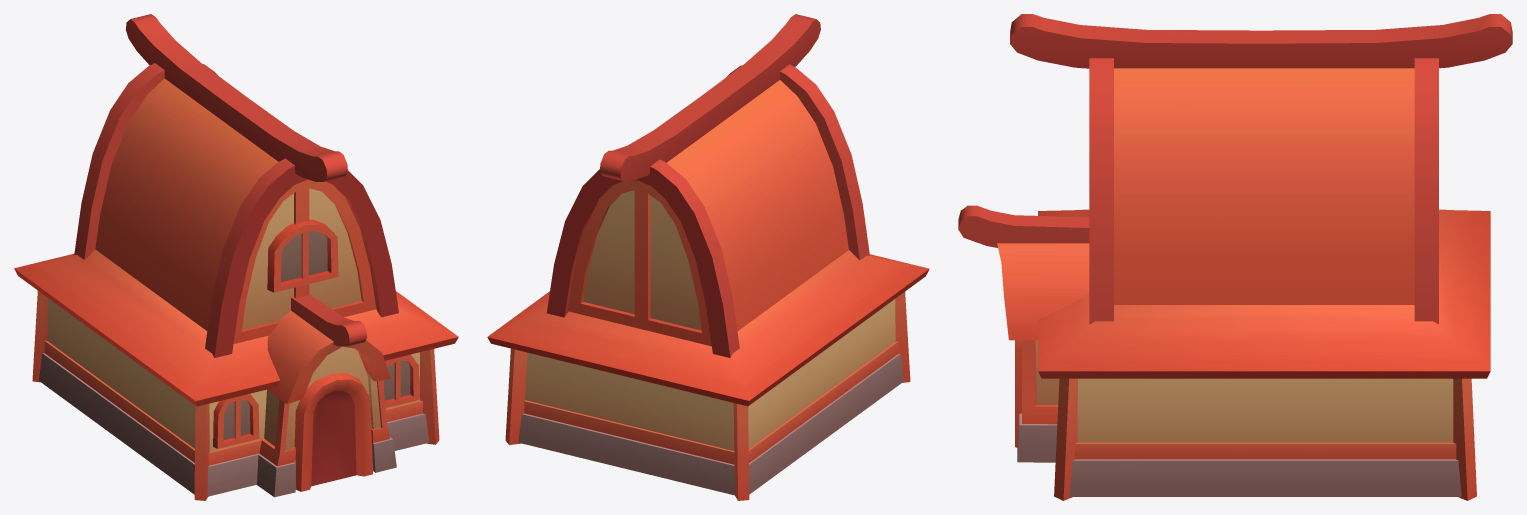
Rendered from Home Tavern.fbx.
The picture shows the model from 3 angles, left to right: view 1: azimuth 30°, elevation 25°; view 2: azimuth 150°, elevation 25°; view 3: azimuth 270°, elevation 25°; orthographic projection. The views are drawn at different scales.
Parts seen in each view (by area): view 1: Cube.213, Cube.238; view 2: Cube.213; view 3: Cube.213.
Part boxes in pixels (box(x1,y1,x2,y2)): Cube.213: box(14, 14, 458, 500); Cube.238: box(267, 219, 338, 292); Cube.213: box(487, 14, 929, 500); Cube.213: box(958, 14, 1512, 500).
Bounding box in the file's own units: 1.16 × 1.37 × 1.7.
